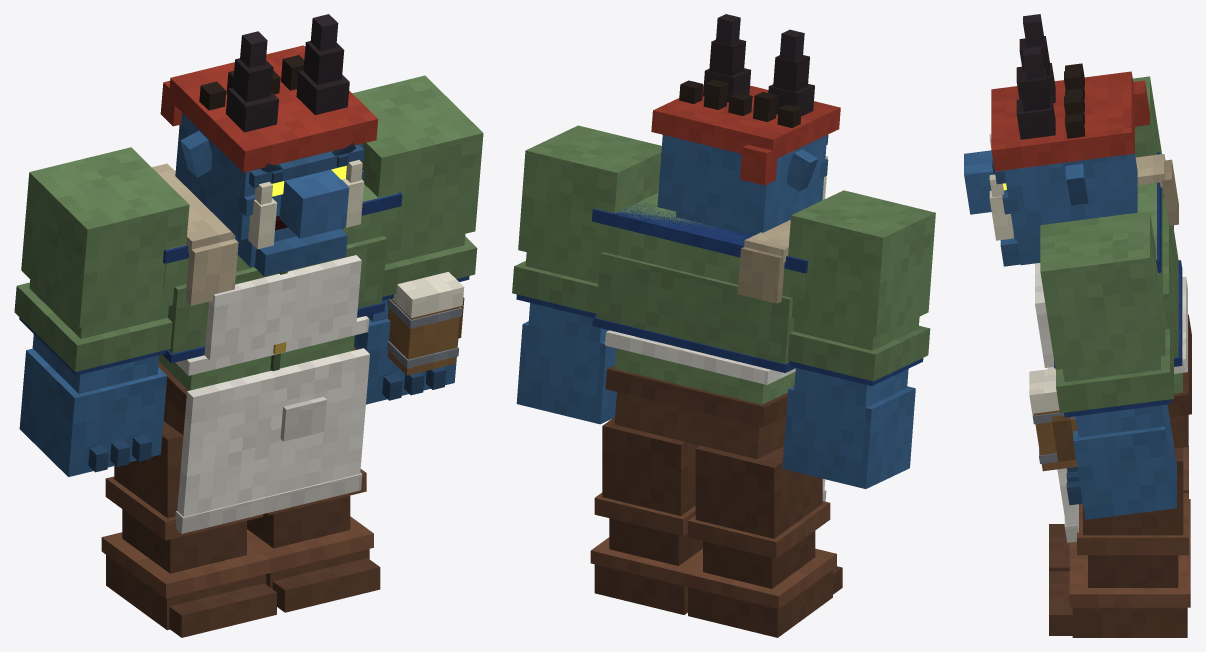
Rendered from ogre_aubergiste_v3.glb.
3 renders of one model, left to right at view 1: azimuth 30°, elevation 25°; view 2: azimuth 150°, elevation 25°; view 3: azimuth 270°, elevation 25°, orthographic. The views are drawn at different scales.
Parts seen in each view (by area): view 1: Torso, ArmR, Head, ArmL, LegR, LegL, HandL; view 2: Torso, ArmR, ArmL, Head, LegR, LegL; view 3: ArmL, Head, LegL, Torso, HandL, LegR, ArmR.
Boxes of the visible parts, left/top/right/bottom form: Torso: left=152, top=163, right=402, bottom=533; ArmR: left=14, top=147, right=189, bottom=476; Head: left=160, top=14, right=378, bottom=276; ArmL: left=352, top=75, right=483, bottom=404; LegR: left=101, top=421, right=276, bottom=637; LegL: left=247, top=469, right=380, bottom=612; HandL: left=387, top=272, right=464, bottom=375; Torso: left=592, top=193, right=826, bottom=501; ArmR: left=782, top=190, right=935, bottom=488; ArmL: left=512, top=125, right=661, bottom=424; Head: left=651, top=14, right=840, bottom=235; LegR: left=684, top=445, right=842, bottom=637; LegL: left=590, top=417, right=702, bottom=614; ArmL: left=1040, top=211, right=1176, bottom=519; Head: left=964, top=14, right=1149, bottom=266; LegL: left=1049, top=447, right=1190, bottom=637; Torso: left=1035, top=152, right=1191, bottom=542; HandL: left=1029, top=368, right=1077, bottom=471; LegR: left=1049, top=446, right=1190, bottom=571; ArmR: left=1133, top=76, right=1173, bottom=228.
Bounding box in the file's own units: 1.47 × 2.09 × 0.7722.
39 materials, 39 textured.
